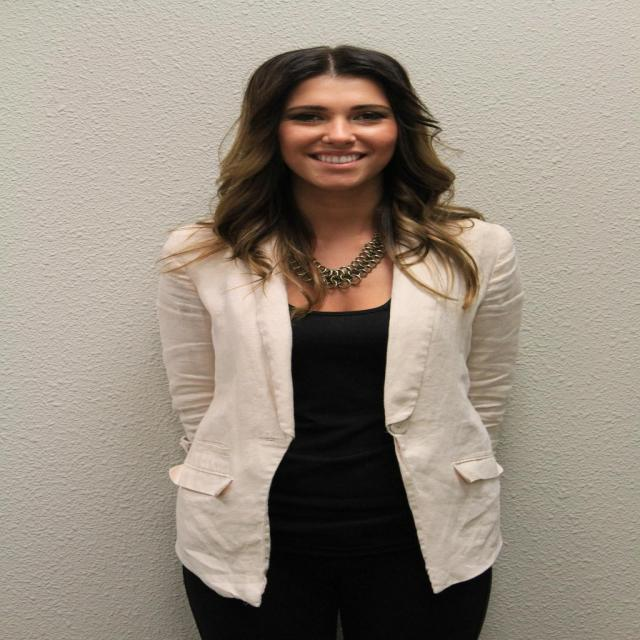nomask: (275, 78, 397, 188)
